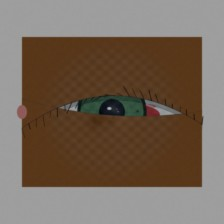hemorrhage_spot: (77, 76, 173, 153)
